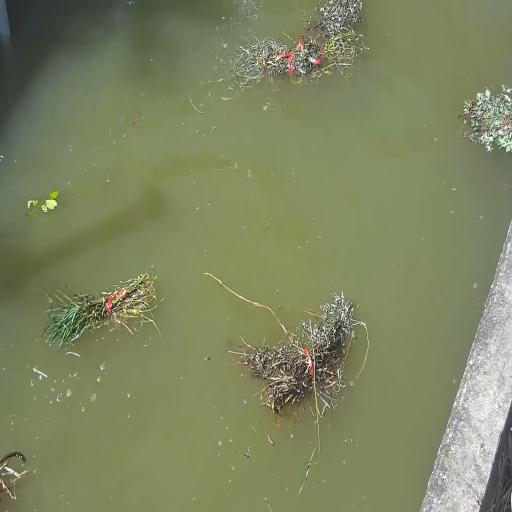twig: (233, 265, 359, 436), (210, 0, 372, 100), (41, 270, 157, 353), (452, 80, 512, 153), (0, 437, 44, 509), (18, 182, 62, 220)
